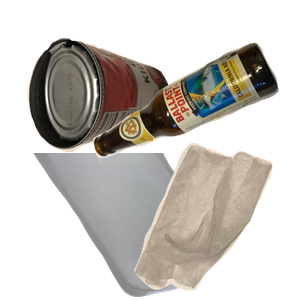glass: (91, 40, 300, 190)
metal: (25, 35, 189, 180)
plastic: (29, 153, 245, 300)
trash: (132, 140, 300, 300)
